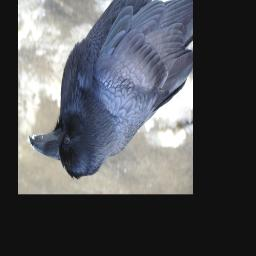Crow: (29, 0, 192, 179)
